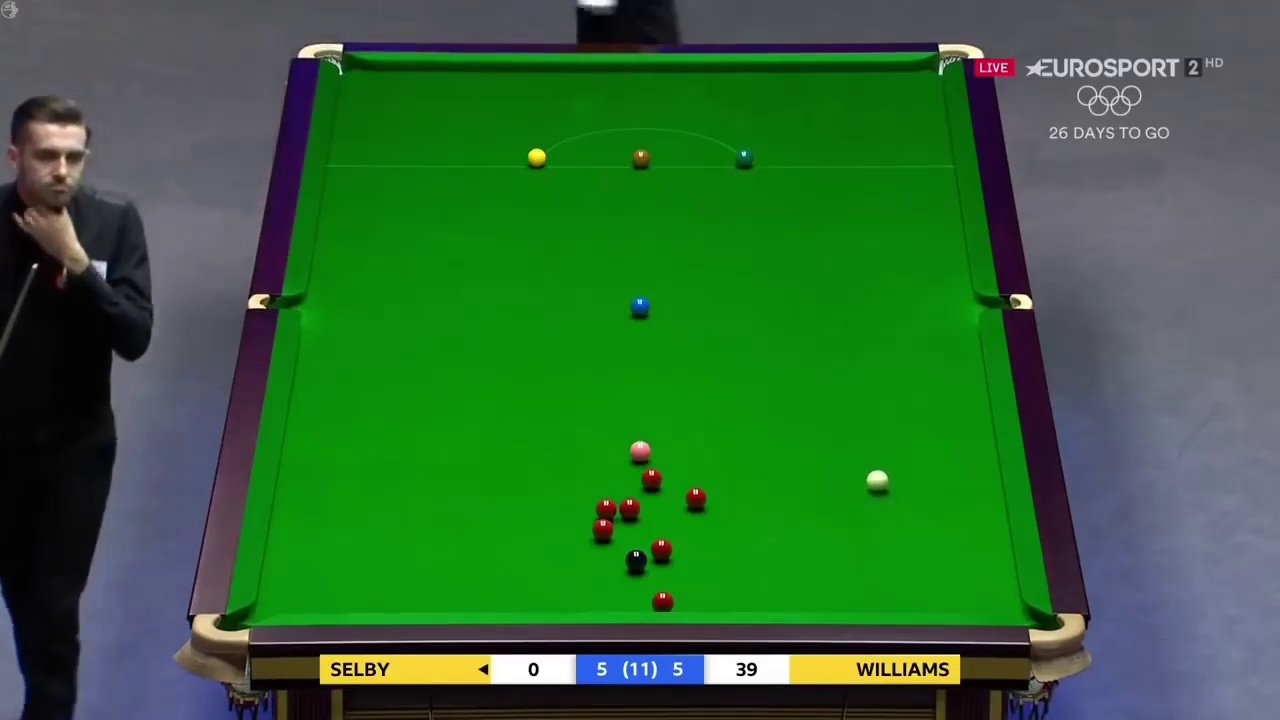ball: (627, 437, 653, 463), (617, 498, 642, 521), (524, 144, 547, 168), (684, 485, 708, 508), (637, 470, 664, 490), (627, 295, 649, 319), (591, 518, 615, 540), (865, 471, 887, 494), (623, 548, 646, 570), (649, 540, 672, 561), (631, 145, 647, 168), (734, 148, 751, 166)
